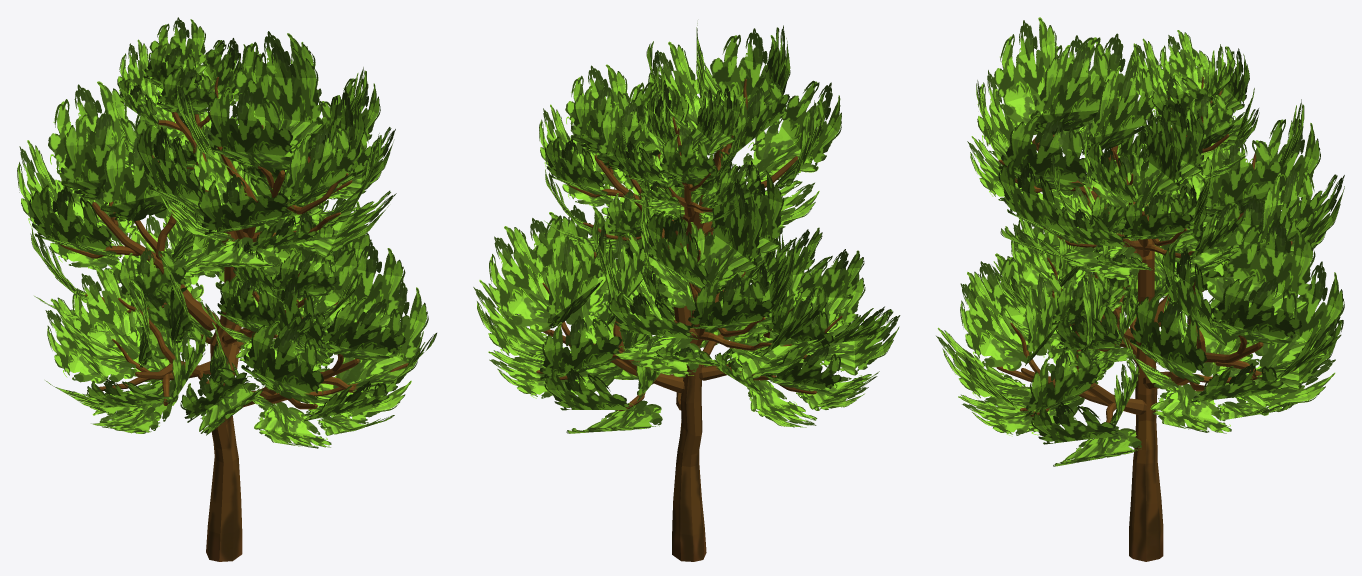
Rendered from Tree.fbx.
3 renders of one model, left to right at view 1: azimuth 30°, elevation 25°; view 2: azimuth 150°, elevation 25°; view 3: azimuth 270°, elevation 25°, orthographic. The views are drawn at different scales.
Visible parts, largest first — view 1: Vert.004; view 2: Vert.004; view 3: Vert.004.
Part boxes in pixels (box(x1,y1,x2,y2)): Vert.004: box(17, 17, 436, 561); Vert.004: box(473, 23, 900, 561); Vert.004: box(936, 17, 1344, 561).
Size of the model in its own units: 2424 by 3381 by 2388.
1 material, 1 textured.
